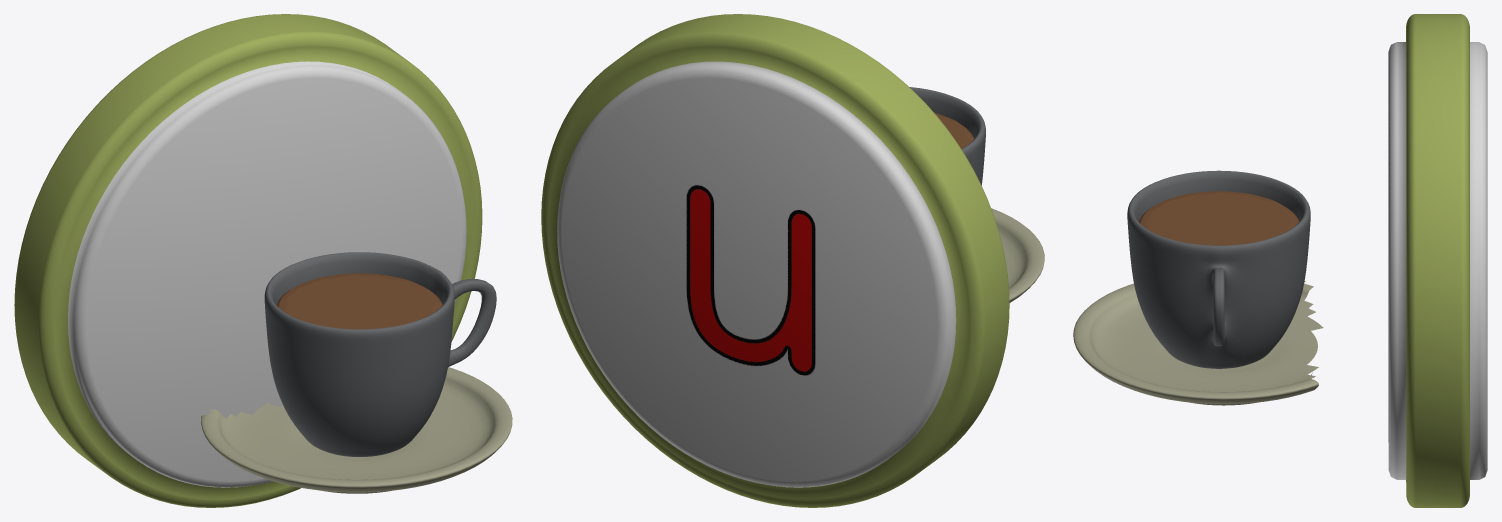
File: cup.gltf
The picture shows the model from 3 angles, left to right: view 1: azimuth 30°, elevation 25°; view 2: azimuth 150°, elevation 25°; view 3: azimuth 270°, elevation 25°; orthographic projection. The views are drawn at different scales.
Visible parts, largest first — view 1: coin, Cylinder, Cylinder.007; view 2: coin, Cylinder, Cylinder.007; view 3: coin, Cylinder, Cylinder.007.
Part boxes in pixels (bbox=[...]): coin: bbox=[14, 14, 482, 507]; Cylinder: bbox=[264, 252, 496, 456]; Cylinder.007: bbox=[201, 367, 512, 493]; coin: bbox=[541, 14, 1009, 507]; Cylinder: bbox=[909, 87, 985, 185]; Cylinder.007: bbox=[991, 208, 1044, 302]; coin: bbox=[1388, 14, 1487, 507]; Cylinder: bbox=[1127, 170, 1310, 368]; Cylinder.007: bbox=[1073, 281, 1323, 405].
Bounding box in the file's own units: 2.56 × 2.56 × 2.15.
6 materials, 1 textured.
